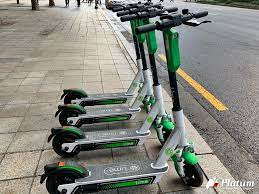kick_body: (86, 162, 159, 183), (86, 129, 142, 146), (83, 109, 135, 119), (89, 93, 130, 102)
kick_handler: (138, 10, 212, 28)
kick_neck: (164, 33, 185, 142)
kick_wheel: (44, 164, 86, 194), (174, 149, 204, 187), (49, 128, 81, 156), (55, 104, 82, 126), (61, 89, 86, 105), (156, 122, 174, 143)
